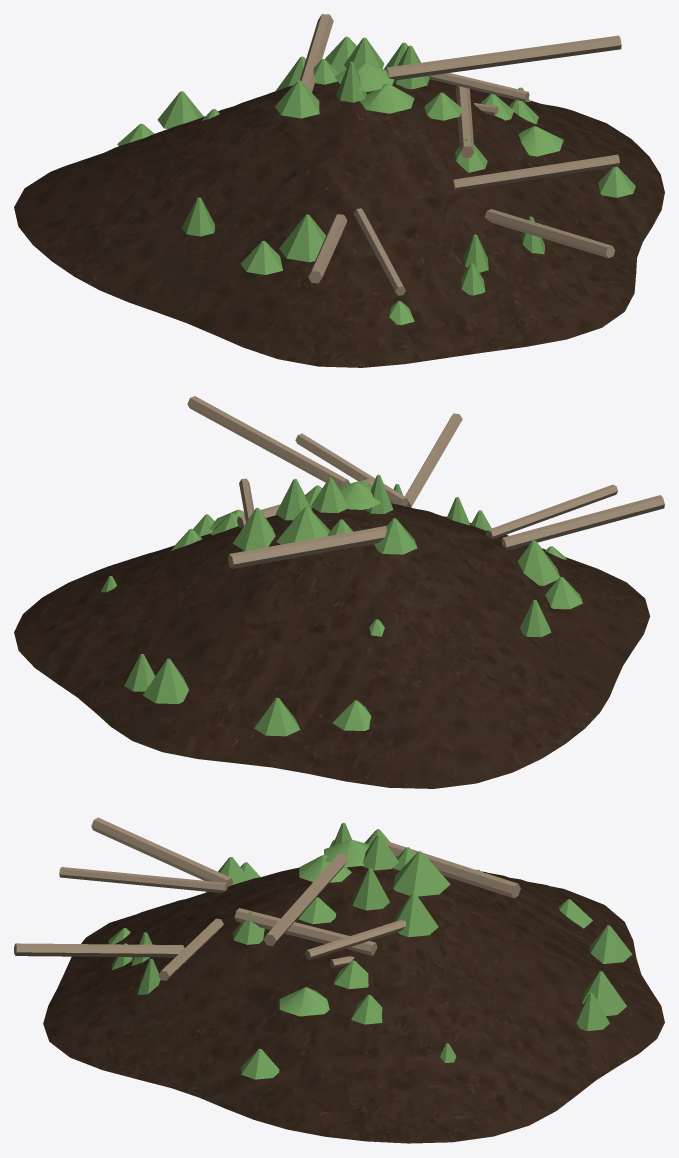
File: TER-LIM-001_lod1.glb
3 renders of one model, top to bottom at view 1: azimuth 30°, elevation 25°; view 2: azimuth 150°, elevation 25°; view 3: azimuth 270°, elevation 25°, orthographic. The views are drawn at different scales.
Parts seen in each view (by area): view 1: TER-LIM-001_monte, TER-LIM-001_galho0, TER-LIM-001_galho7, TER-LIM-001_galho5, TER-LIM-001_tufo0, TER-LIM-001_tufo3, TER-LIM-001_galho3, TER-LIM-001_galho1, TER-LIM-001_tufo5, TER-LIM-001_galho6, TER-LIM-001_galho9, TER-LIM-001_galho8 (+14 smaller); view 2: TER-LIM-001_monte, TER-LIM-001_galho3, TER-LIM-001_galho0, TER-LIM-001_galho9, TER-LIM-001_galho6, TER-LIM-001_tufo9, TER-LIM-001_galho7, TER-LIM-001_galho5, TER-LIM-001_tufo0, TER-LIM-001_tufo21, TER-LIM-001_tufo7, TER-LIM-001_tufo8 (+9 smaller); view 3: TER-LIM-001_monte, TER-LIM-001_galho5, TER-LIM-001_galho9, TER-LIM-001_galho6, TER-LIM-001_galho3, TER-LIM-001_tufo7, TER-LIM-001_galho8, TER-LIM-001_galho0, TER-LIM-001_galho1, TER-LIM-001_tufo21, TER-LIM-001_tufo2, TER-LIM-001_tufo8 (+14 smaller).
Boxes of the visible parts, x1,y1,x2,y2 form: TER-LIM-001_monte: (14,79,664,367); TER-LIM-001_galho0: (386,35,621,80); TER-LIM-001_galho7: (453,154,619,191); TER-LIM-001_galho5: (485,209,615,258); TER-LIM-001_tufo0: (279,214,325,262); TER-LIM-001_tufo3: (275,80,319,118); TER-LIM-001_galho3: (300,14,333,92); TER-LIM-001_galho1: (428,73,529,101); TER-LIM-001_tufo5: (360,83,414,113); TER-LIM-001_galho6: (354,208,405,295); TER-LIM-001_galho9: (308,214,347,283); TER-LIM-001_galho8: (455,86,474,157); TER-LIM-001_monte: (14,503,650,788); TER-LIM-001_galho3: (227,525,386,568); TER-LIM-001_galho0: (187,396,349,487); TER-LIM-001_galho9: (501,495,664,549); TER-LIM-001_galho6: (485,484,617,539); TER-LIM-001_tufo9: (143,658,188,703); TER-LIM-001_galho7: (295,433,408,506); TER-LIM-001_galho5: (405,413,462,507); TER-LIM-001_tufo0: (517,540,559,585); TER-LIM-001_tufo21: (233,507,275,550); TER-LIM-001_tufo7: (276,506,329,544); TER-LIM-001_tufo8: (254,697,300,736); TER-LIM-001_monte: (43,866,664,1143); TER-LIM-001_galho5: (14,943,184,957); TER-LIM-001_galho9: (91,817,233,887); TER-LIM-001_galho6: (59,867,227,892); TER-LIM-001_galho3: (385,840,520,898); TER-LIM-001_tufo7: (393,851,450,896); TER-LIM-001_galho8: (234,908,377,955); TER-LIM-001_galho0: (263,853,347,945); TER-LIM-001_galho1: (305,919,405,959); TER-LIM-001_tufo21: (395,893,438,937); TER-LIM-001_tufo2: (279,987,329,1016); TER-LIM-001_tufo8: (590,925,632,963).
Size of the model in its own units: 1.61 by 0.498 by 1.68.
Materials: 3 (1 with a texture image).
